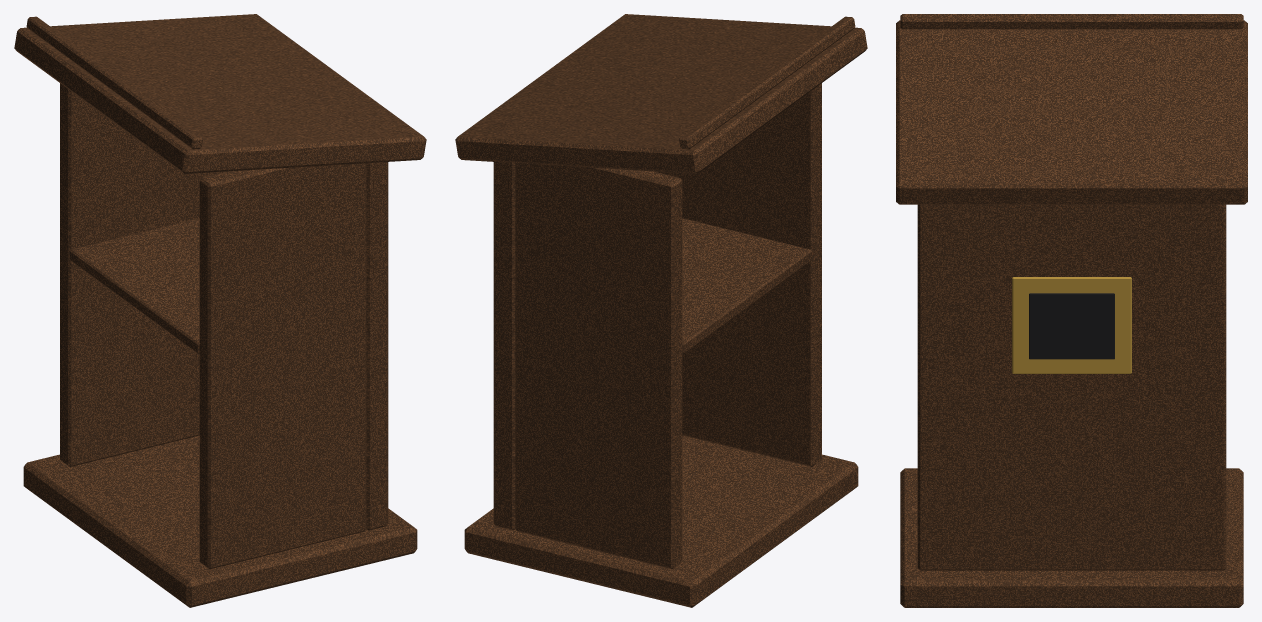
File: BriefingPodium.gltf
The picture shows the model from 3 angles, left to right: view 1: azimuth 30°, elevation 25°; view 2: azimuth 150°, elevation 25°; view 3: azimuth 270°, elevation 25°; orthographic projection. The views are drawn at different scales.
Visible parts, largest first — view 1: BriefingPodium; view 2: BriefingPodium; view 3: BriefingPodium.
Part boxes in pixels (<box>): BriefingPodium: <box>14,14,426,607</box>; BriefingPodium: <box>455,14,867,607</box>; BriefingPodium: <box>896,14,1247,607</box>.
Size of the model in its own units: 0.6773 by 1.24 by 0.82.
Materials: 3 (1 with a texture image).
